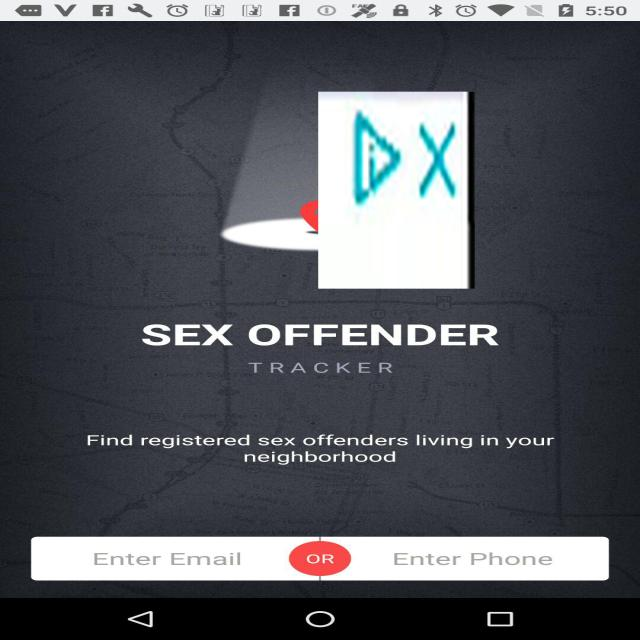sneaking: (318, 92, 475, 288)
